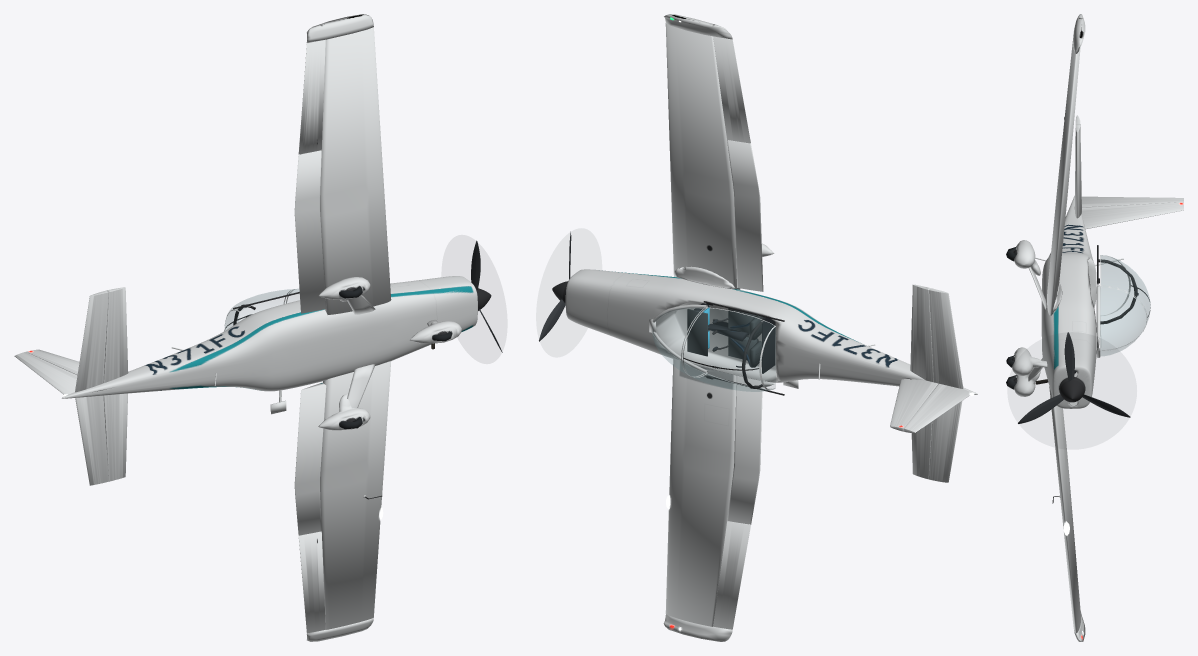
The model's file is exterior-lod1.glb.
3 views of the same model, side by side, from view 1: azimuth 30°, elevation 25°; view 2: azimuth 150°, elevation 25°; view 3: azimuth 270°, elevation 25° (orthographic).
Visible parts, largest first — view 1: airframe, wing_right, wing_left, flaps_right, flaps_left, aileron_right, elevator_right, aileron_left, elevator_left, stabilizer_right, stabilizer_left, rudder (+4 smaller); view 2: airframe, wing_left, wing_right, canopy_glass, flaps_right, flaps_left, aileron_left, elevator_right, aileron_right, stabilizer_right, elevator_left, windshield (+8 smaller); view 3: airframe, wing_right, wing_left, windshield, fin, canopy_glass, propeller, rudder, stabilizer_right, wheel_fairing_1, wheel_fairing_2, spinner (+3 smaller).
Boxes of the visible parts, bbox=[...] form: airframe: bbox=[62, 276, 477, 398]; wing_right: bbox=[320, 27, 391, 314]; wing_left: bbox=[320, 361, 391, 629]; flaps_right: bbox=[294, 150, 326, 313]; flaps_left: bbox=[294, 382, 326, 535]; aileron_right: bbox=[298, 39, 325, 154]; elevator_right: bbox=[75, 290, 108, 392]; aileron_left: bbox=[298, 531, 325, 633]; elevator_left: bbox=[75, 395, 108, 485]; stabilizer_right: bbox=[103, 287, 128, 382]; stabilizer_left: bbox=[103, 393, 127, 481]; rudder: bbox=[14, 352, 77, 395]; airframe: bbox=[565, 269, 977, 394]; wing_left: bbox=[665, 359, 736, 626]; wing_right: bbox=[665, 23, 740, 289]; canopy_glass: bbox=[683, 308, 775, 391]; flaps_right: bbox=[727, 140, 763, 291]; flaps_left: bbox=[727, 375, 762, 524]; aileron_left: bbox=[713, 521, 750, 629]; elevator_right: bbox=[929, 288, 963, 388]; aileron_right: bbox=[713, 36, 750, 143]; stabilizer_right: bbox=[910, 284, 933, 382]; elevator_left: bbox=[929, 401, 962, 482]; windshield: bbox=[652, 308, 703, 374]; airframe: bbox=[1041, 195, 1096, 408]; wing_right: bbox=[1047, 35, 1080, 315]; wing_left: bbox=[1049, 386, 1080, 633]; windshield: bbox=[1100, 287, 1146, 355]; fin: bbox=[1081, 202, 1183, 229]; canopy_glass: bbox=[1101, 255, 1150, 326]; propeller: bbox=[1018, 332, 1130, 423]; rudder: bbox=[1081, 196, 1183, 207]; stabilizer_right: bbox=[1074, 124, 1081, 218]; wheel_fairing_1: bbox=[1014, 240, 1040, 275]; wheel_fairing_2: bbox=[1012, 347, 1042, 375]; spinner: bbox=[1059, 377, 1085, 402].
Size of the model in its own units: 6.67 by 9.17 by 2.45.
16 materials, 14 textured.
